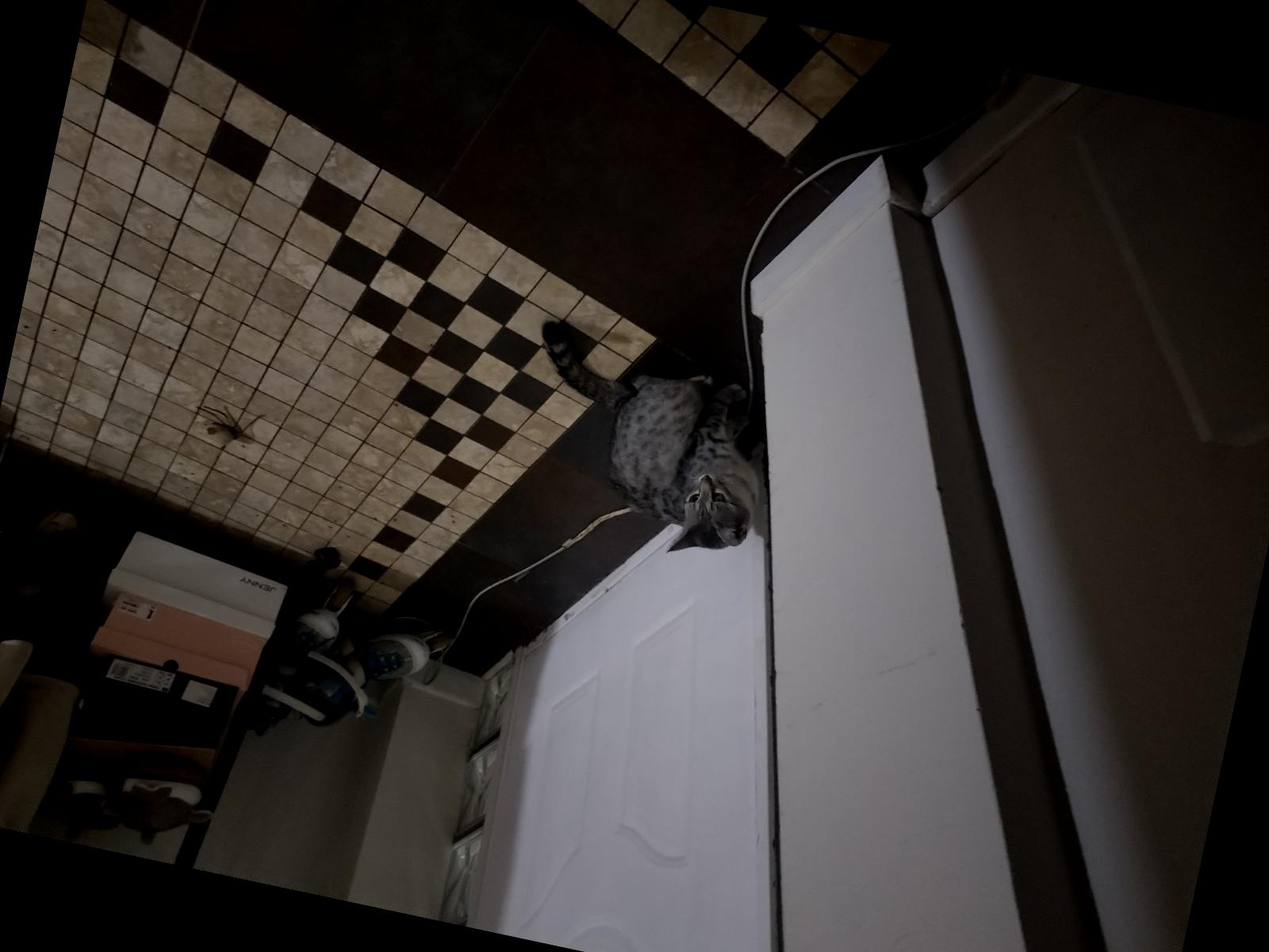macka: (496, 317, 788, 569)
